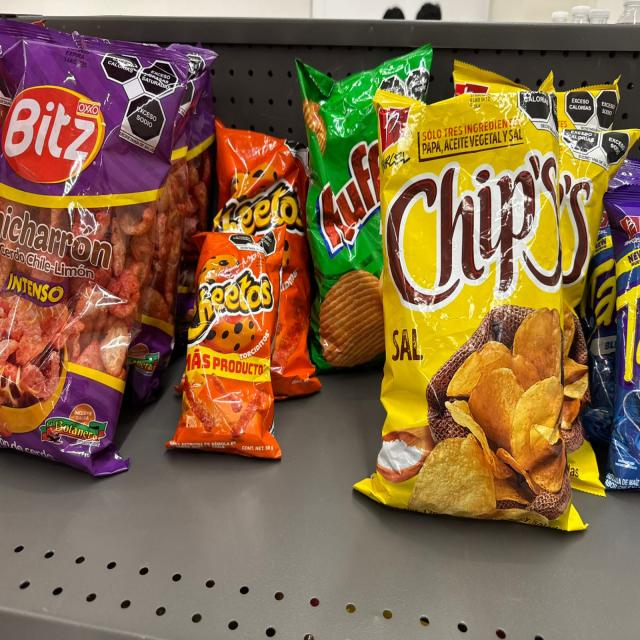CHEETOS TORCIDITOS 240GR: (168, 228, 289, 451)
Cheetos grandes: (219, 120, 321, 396)
Papas Chips Barcel 170 gr bolsa con sal: (352, 74, 592, 531), (559, 79, 616, 495), (451, 60, 522, 89)
RUFFLES QUESO 185GR: (295, 44, 428, 368)
Takis Blue 75g: (588, 163, 639, 446), (604, 175, 640, 497)
chicharrones de cerdo intenso: (0, 16, 190, 486), (125, 63, 200, 408), (176, 44, 210, 340)
